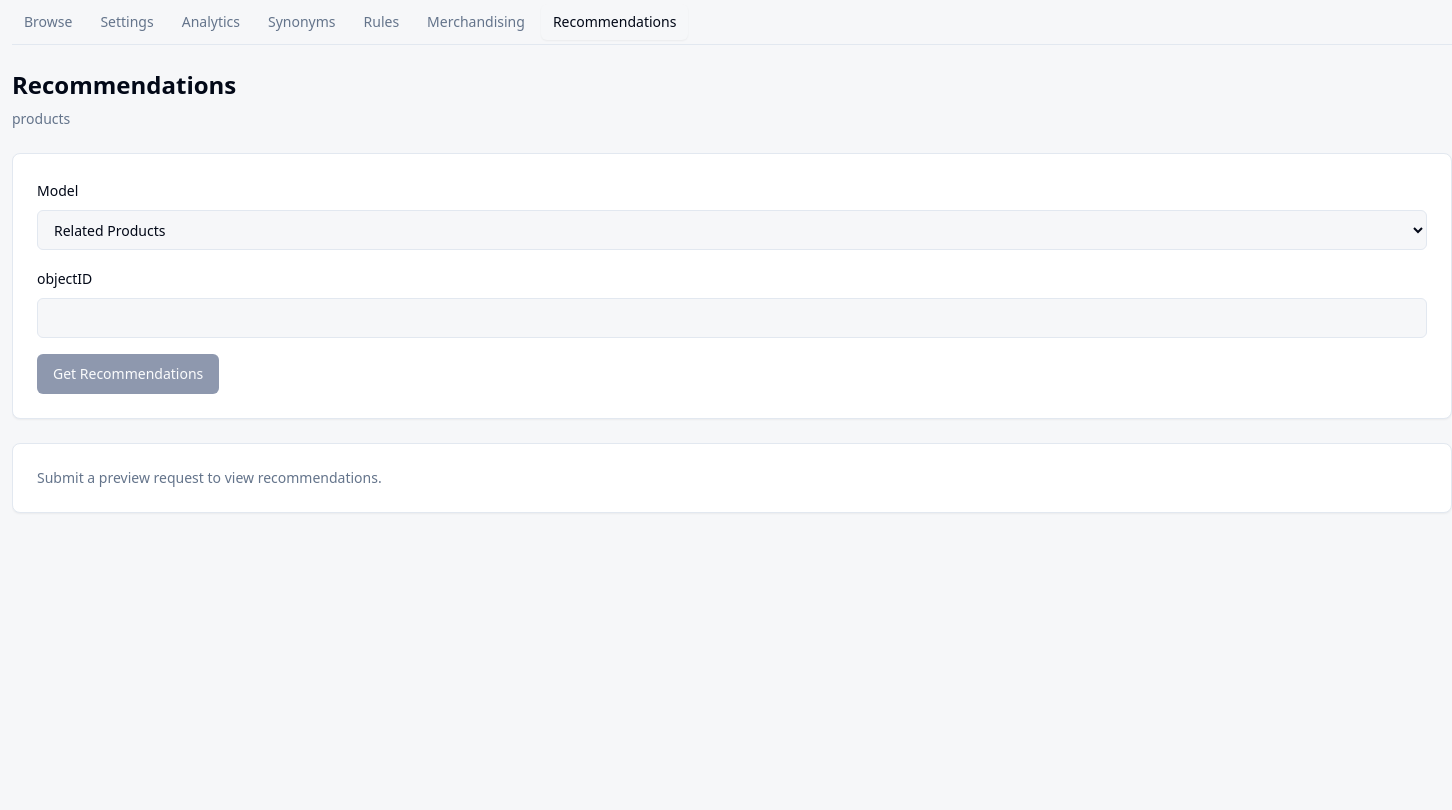
Recommendations page › switches model-specific required inputs and submit enabled state
Select "Trending Items" in the dropdown with test id "recommendations-model-select" at (732, 230), box [37,210,1427,250]
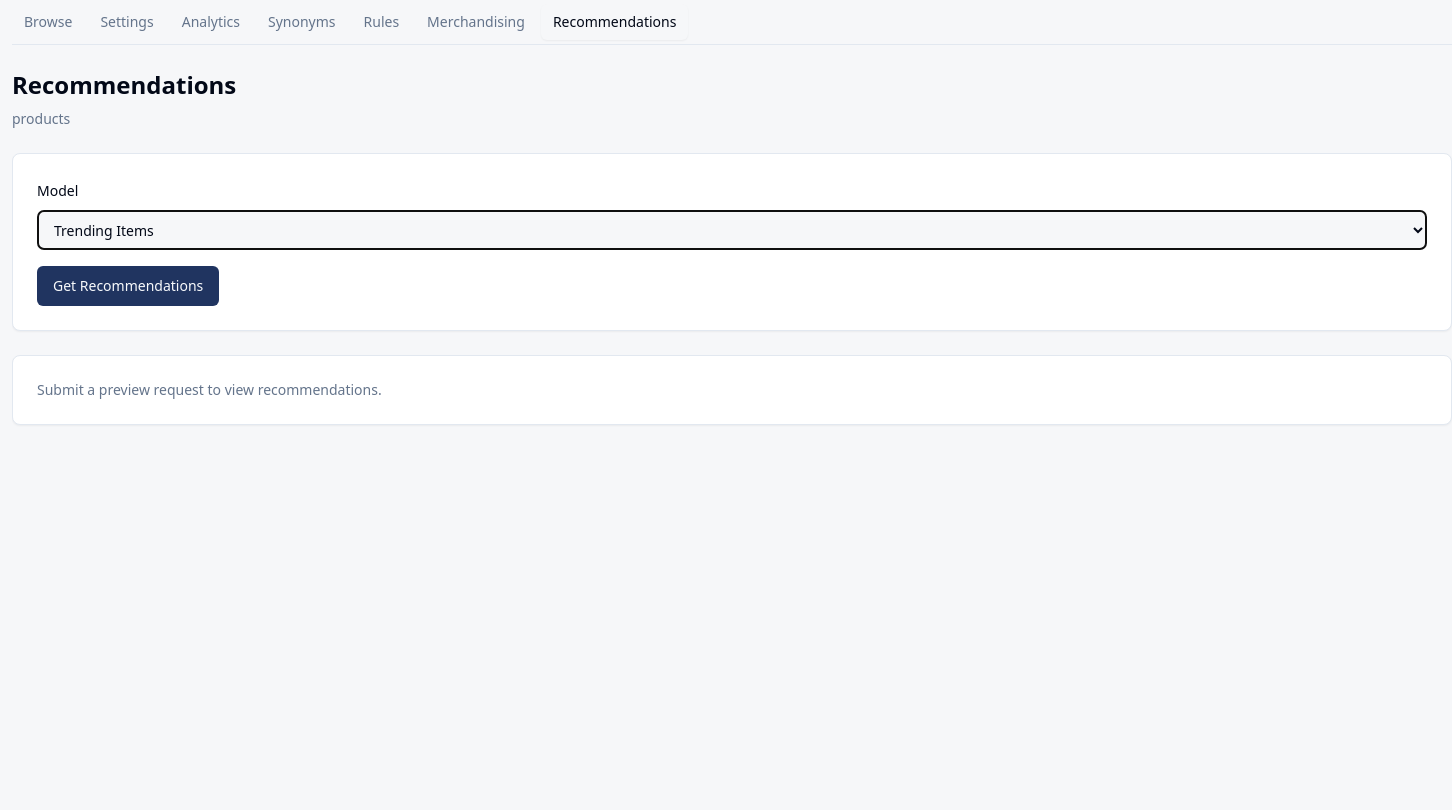
Expected: the label with test id "recommendations-object-input" is gone
Expected: the button with test id "get-recommendations-btn" is enabled, [37,266,219,306]
Select "Trending Facets" in the dropdown with test id "recommendations-model-select" at (732, 230), box [37,210,1427,250]
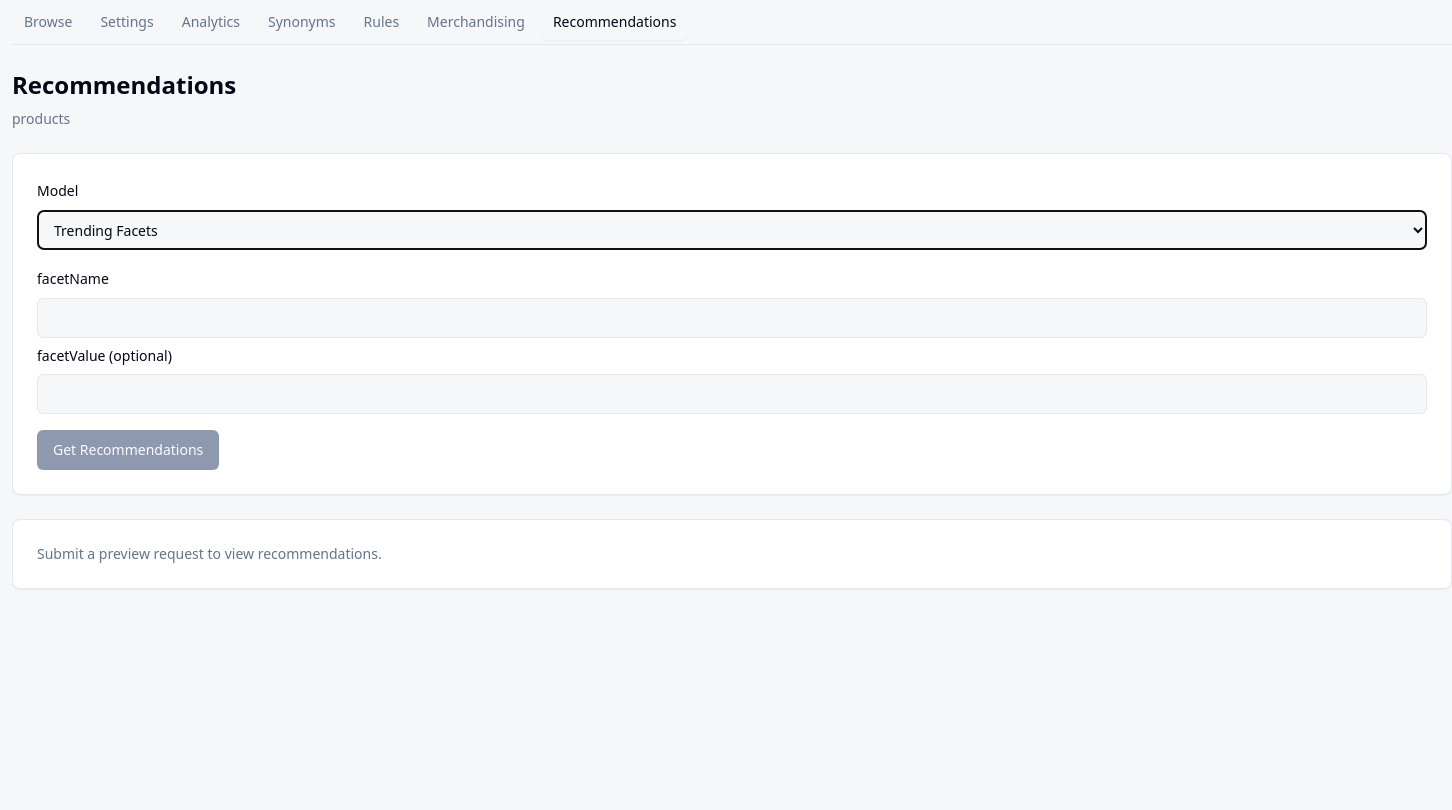
Expected: the button with test id "get-recommendations-btn" is disabled, [37,430,219,470]
Type "brand" into the field with test id "recommendations-facet-input" at (732, 318), box [37,298,1427,338]
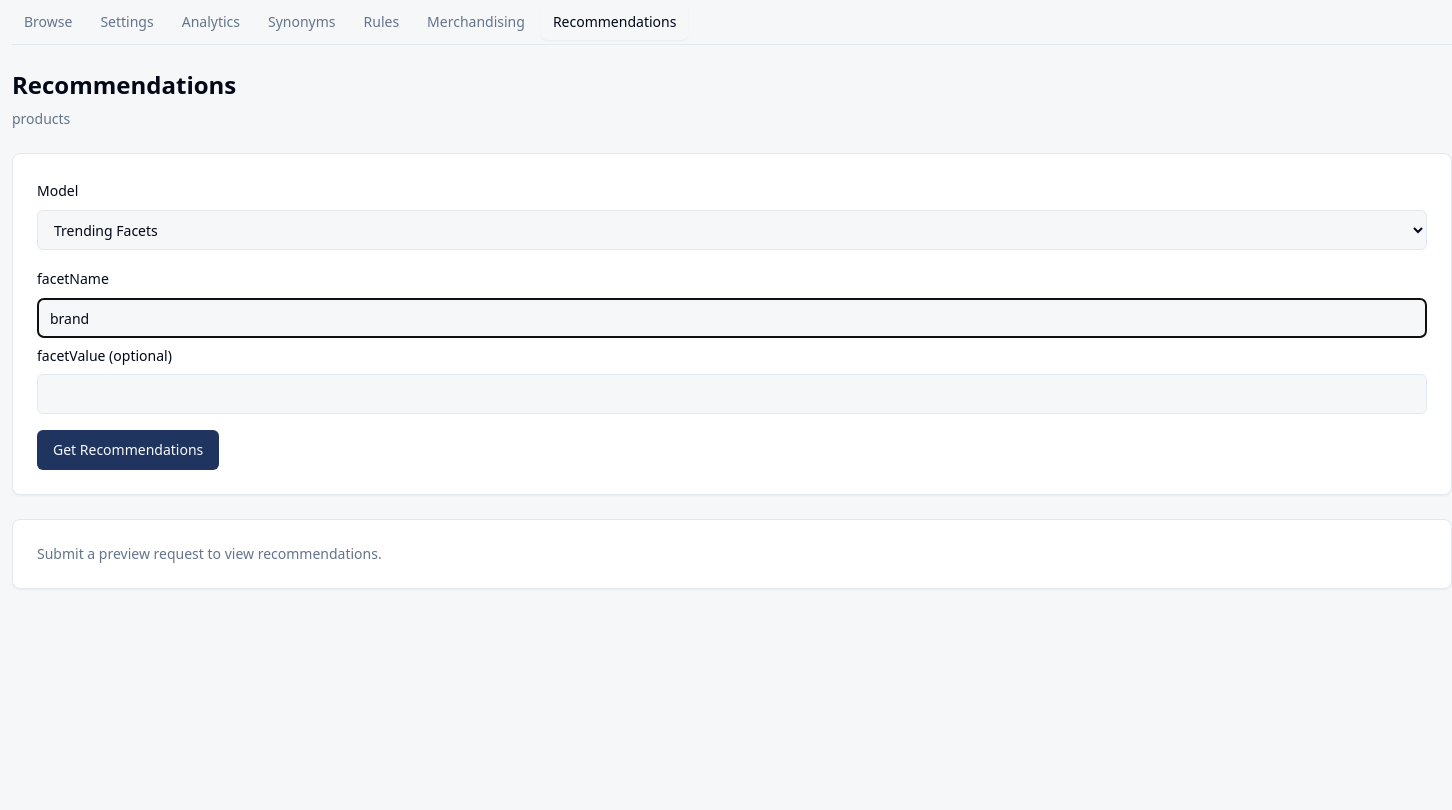
Expected: the button with test id "get-recommendations-btn" is enabled, [37,430,219,470]
